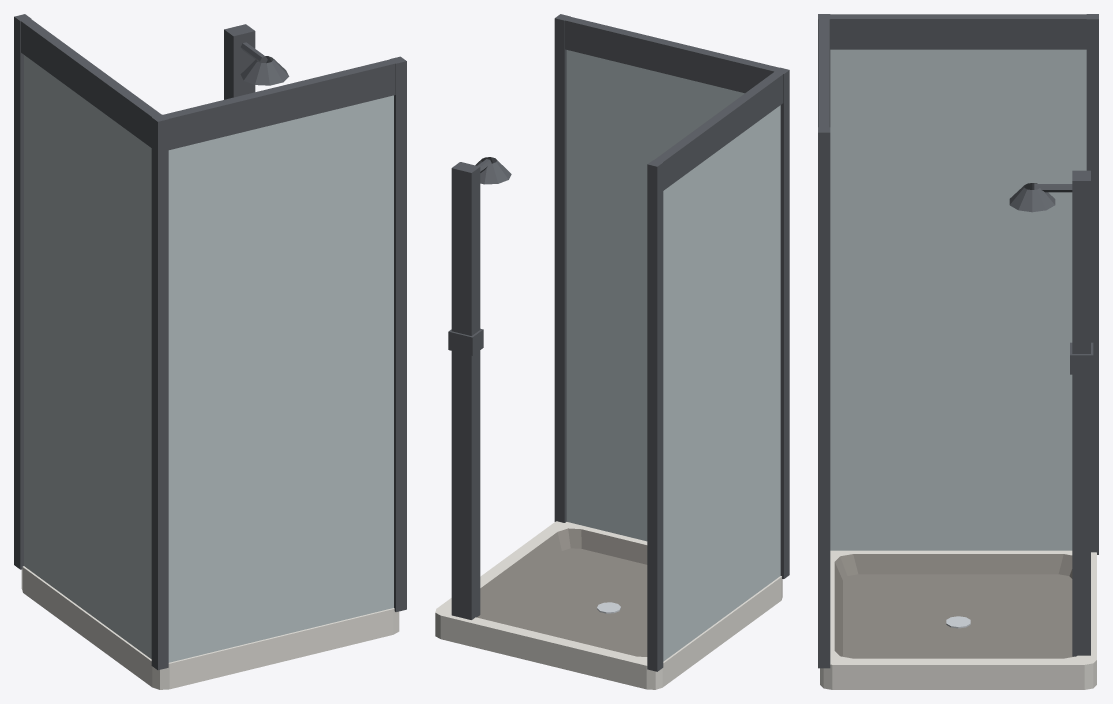
Rendered from FN_Shower_Enclosure.glb.
The picture shows the model from 3 angles, left to right: view 1: azimuth 30°, elevation 25°; view 2: azimuth 150°, elevation 25°; view 3: azimuth 270°, elevation 25°; orthographic projection. The views are drawn at different scales.
Parts seen in each view (by area): view 1: FN_Shower_Enclosure; view 2: FN_Shower_Enclosure; view 3: FN_Shower_Enclosure.
Part boxes in pixels (bbox=[...]): FN_Shower_Enclosure: bbox=[14, 14, 406, 689]; FN_Shower_Enclosure: bbox=[435, 14, 789, 689]; FN_Shower_Enclosure: bbox=[818, 14, 1098, 689].
Size of the model in its own units: 0.912 by 2 by 0.912.
Materials: 2 (1 with a texture image).
